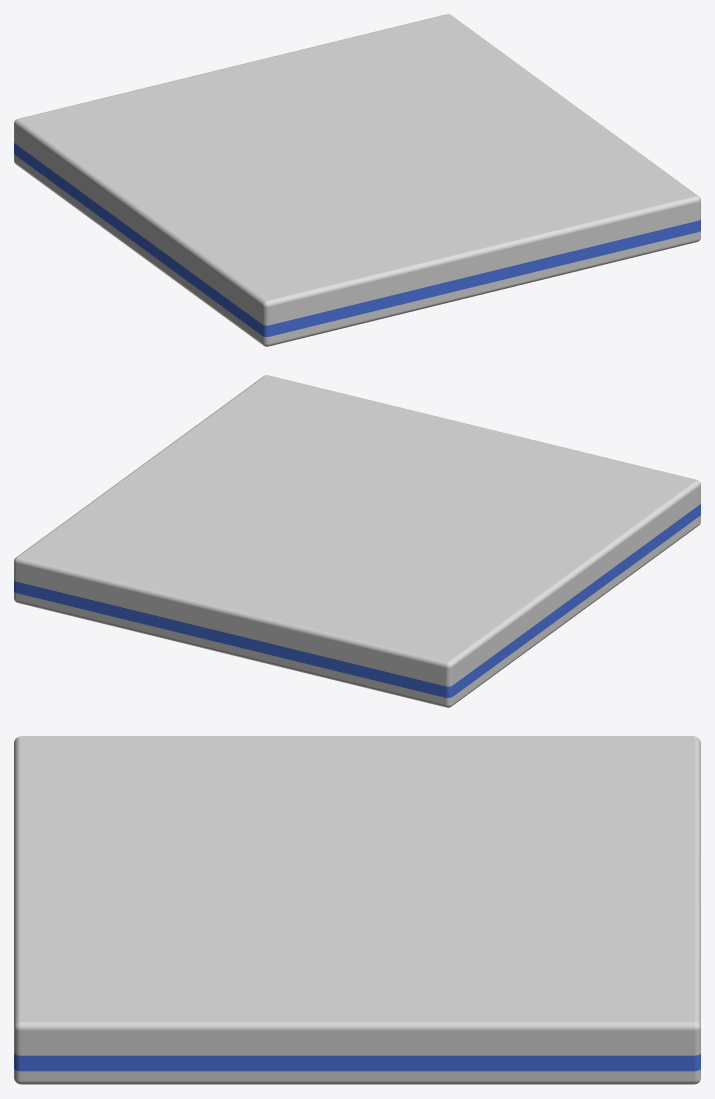
File: lab_set_floor.fbx
3 renders of one model, top to bottom at view 1: azimuth 30°, elevation 25°; view 2: azimuth 150°, elevation 25°; view 3: azimuth 270°, elevation 25°, orthographic. The views are drawn at different scales.
Visible parts, largest first — view 1: floor; view 2: floor; view 3: floor.
Part boxes in pixels (box(x1,y1,x2,y2)): floor: box(14, 14, 700, 346); floor: box(14, 375, 700, 707); floor: box(14, 736, 700, 1084).
Size of the model in its own units: 100 by 10 by 100.
